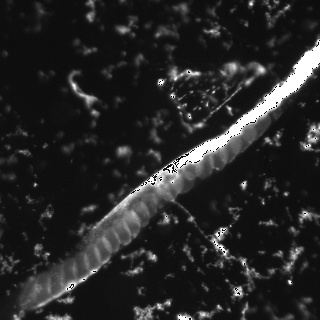embryo: (17, 272, 45, 309), (242, 114, 271, 142), (49, 263, 70, 299), (230, 126, 257, 153), (31, 270, 51, 304), (220, 136, 242, 163), (112, 217, 132, 246), (173, 170, 196, 194), (181, 157, 205, 180), (60, 258, 78, 288), (72, 253, 90, 282), (122, 210, 142, 236), (83, 245, 101, 273), (94, 237, 113, 263), (195, 154, 215, 178), (209, 145, 229, 169), (131, 202, 150, 227), (102, 227, 120, 253), (140, 192, 158, 217)
